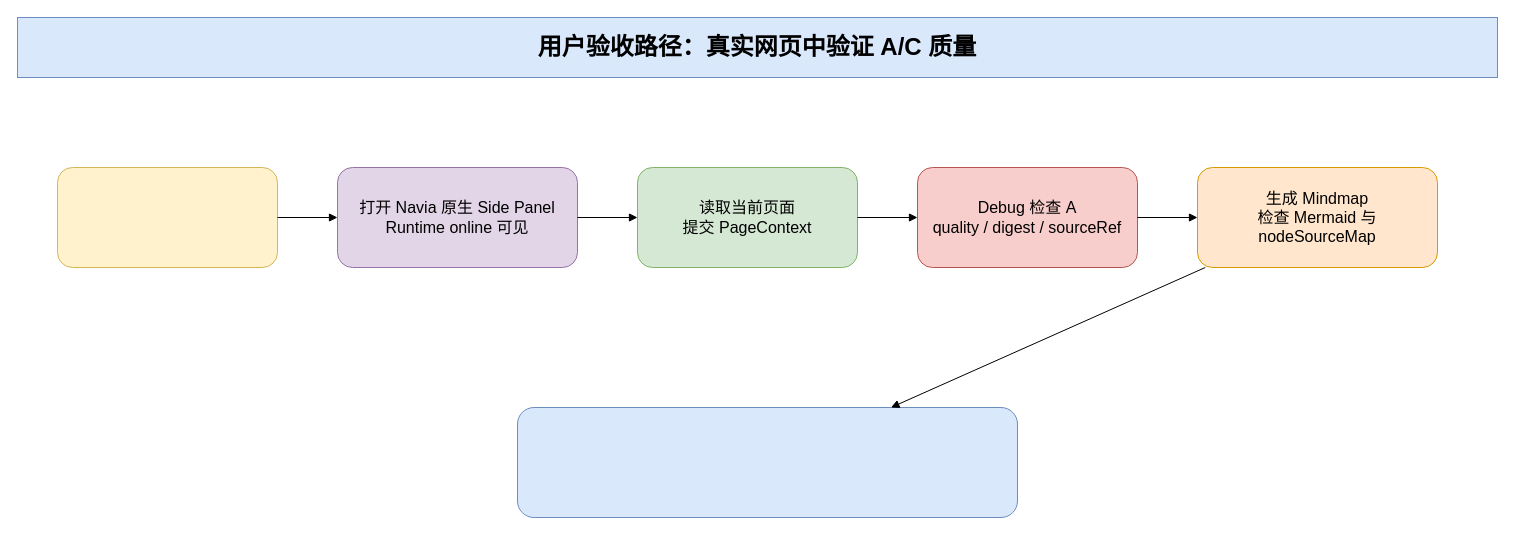
Image size: 1515x535. Some labels were removed from this diagram. The centre of each missing label's shape, as x and y in pixels:
"打开真实网页 中文复杂 / 图文混排 / 低信号" belongs at [167,217].
"验收输出 截图 + metadata + HTML 报告 + false-green audit" belongs at [767,462].
